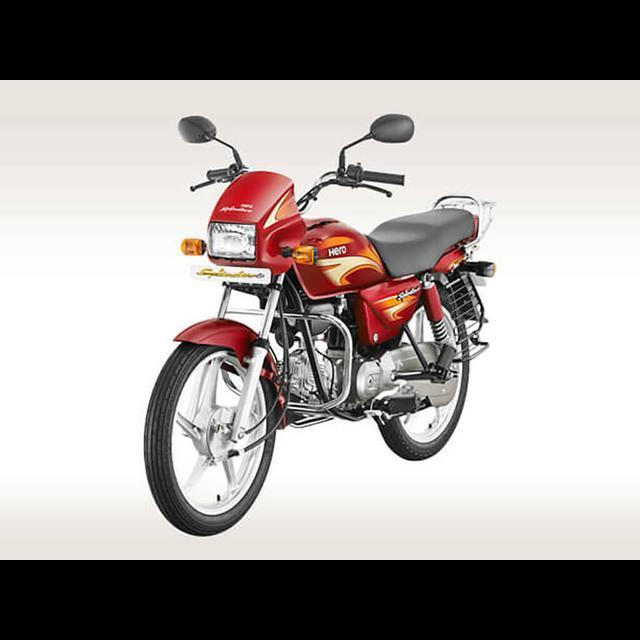motorcycle: (135, 111, 500, 544)
